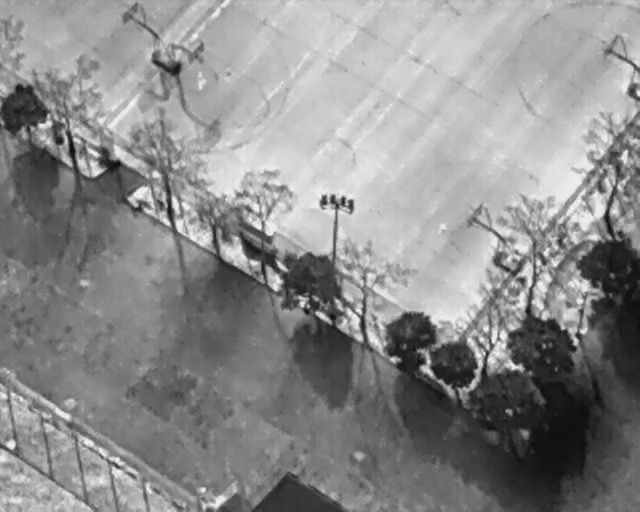Person: (197, 69, 206, 93), (437, 220, 447, 235), (225, 64, 232, 83)
